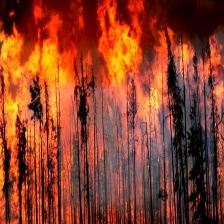fire: (1, 3, 224, 123)
